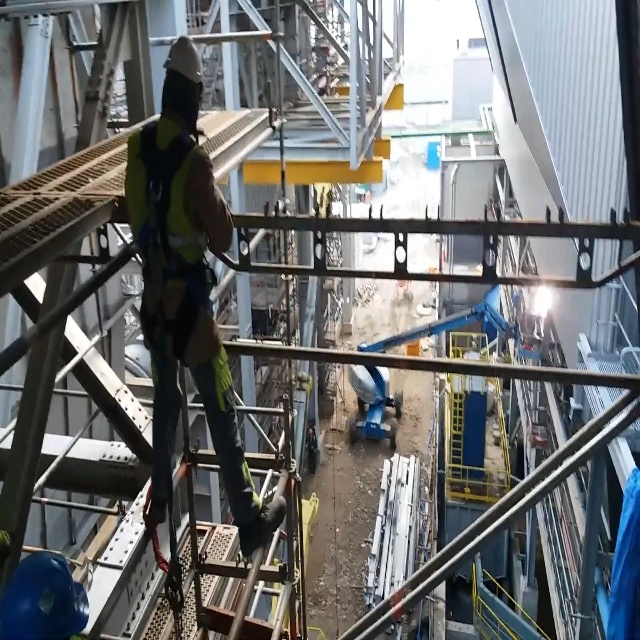Arnes_seguridad: (123, 110, 220, 367)
